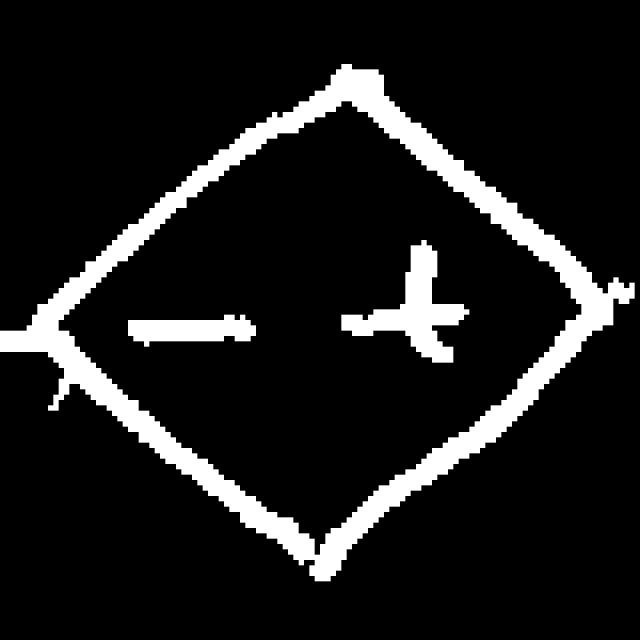dependant_voltage: (33, 56, 596, 584)
